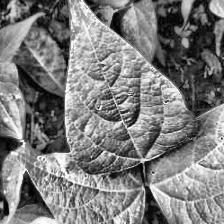ALS: (59, 0, 195, 176), (147, 75, 224, 224), (11, 146, 146, 224)
